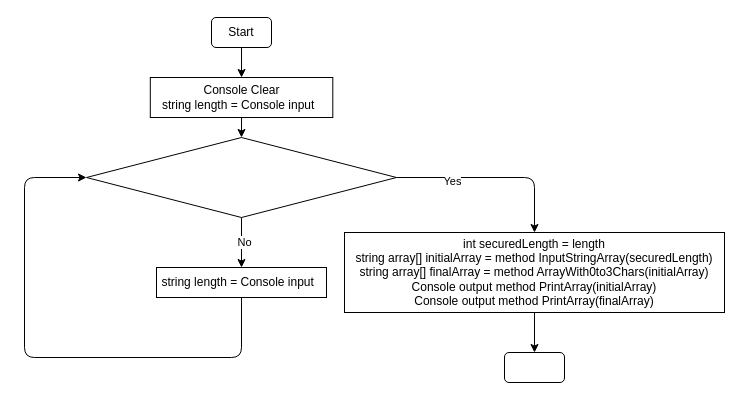
Image size: 742x400. Some labels were removed from this diagram. Each missing label, with the box of its shape:
End: (504, 352, 564, 382)
method StringCanBeParsedToInt(length) = true?: (86, 136, 396, 218)
